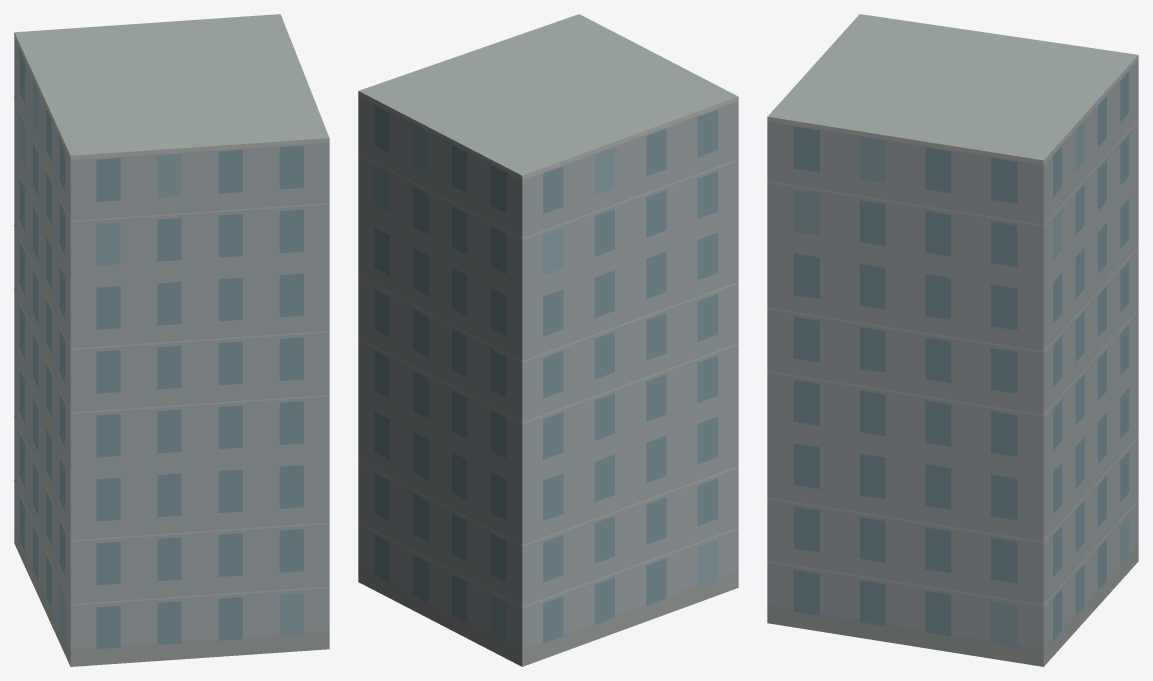
File: survey-upis-32876444.glb
3 renders of one model, left to right at view 1: azimuth 30°, elevation 25°; view 2: azimuth 150°, elevation 25°; view 3: azimuth 270°, elevation 25°, orthographic. The views are drawn at different scales.
Parts seen in each view (by area): view 1: survey-upis-32876444.tmp; view 2: survey-upis-32876444.tmp; view 3: survey-upis-32876444.tmp.
Part boxes in pixels (x1,y1,x2,y2): survey-upis-32876444.tmp: [14, 14, 329, 666]; survey-upis-32876444.tmp: [358, 14, 738, 666]; survey-upis-32876444.tmp: [767, 14, 1138, 666].
Size of the model in its own units: 16.98 by 27.35 by 18.19.
